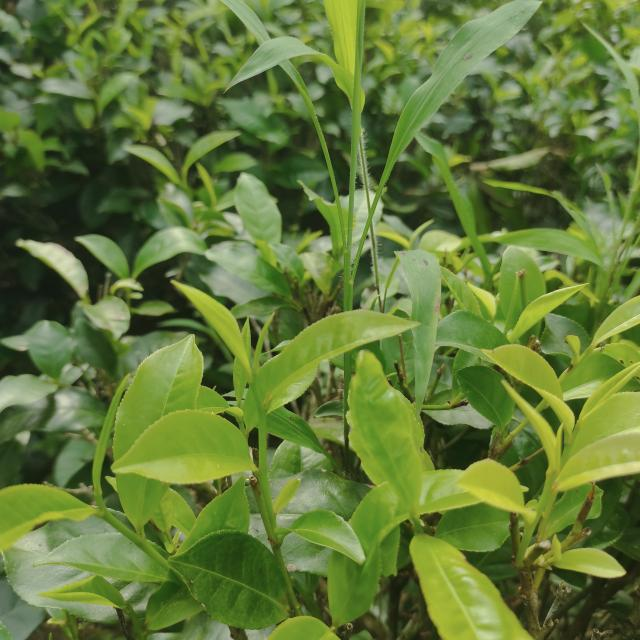unopened_leaf: (495, 372, 564, 486), (85, 364, 137, 502), (248, 306, 286, 381), (265, 471, 308, 526)
